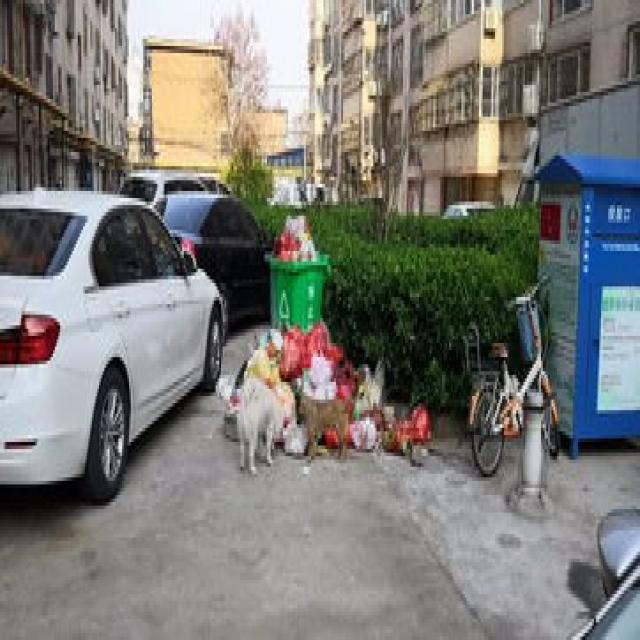garbage: (228, 318, 431, 453)
overflow: (262, 209, 328, 325)
